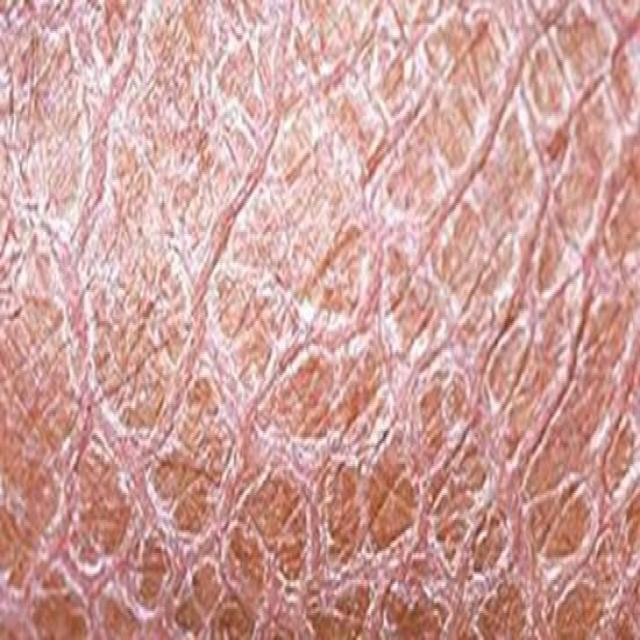Dry-Skin: (71, 68, 545, 608)
